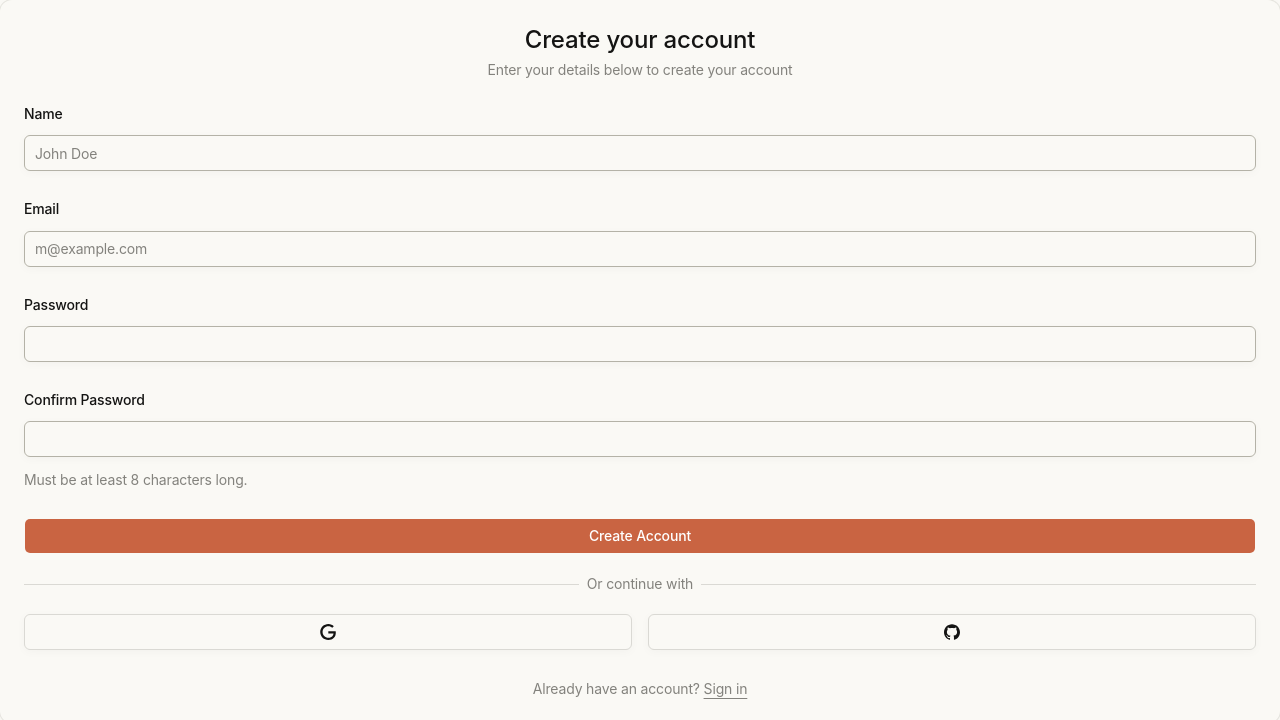
Scenario: SignupForm › form submission › should show error when passwords do not match
Type "Test User" into the field labelled "Name" at x=640, y=153, box [24,135,1256,171]
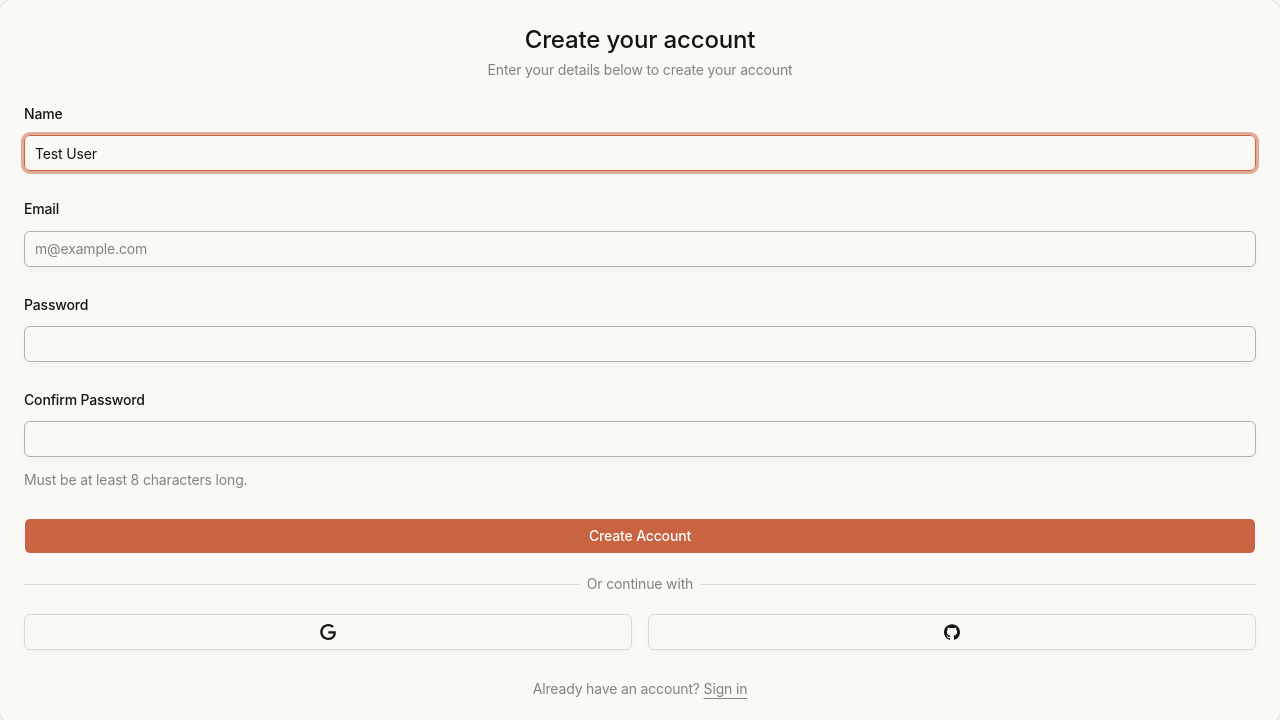
Type "test@example.com" into the field labelled "Email" at x=640, y=248, box [24,230,1256,266]
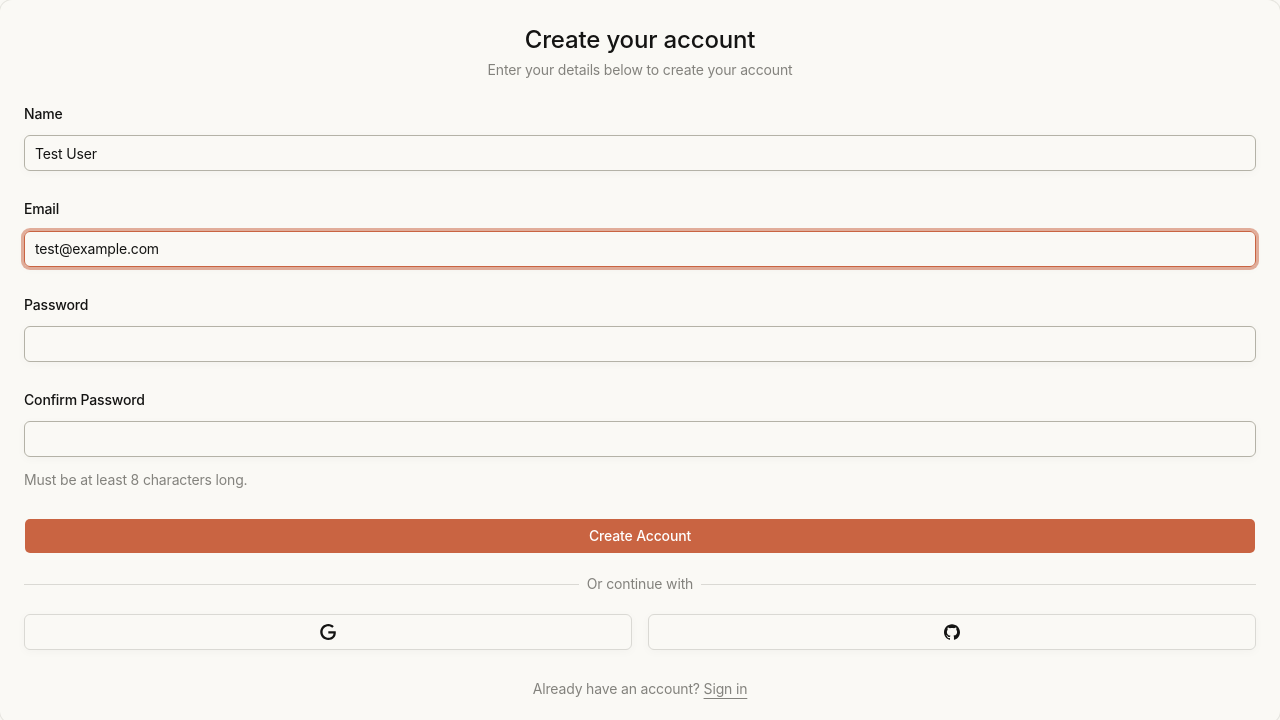
Type "password123" into the password field labelled "Password" at x=640, y=344, box [24,326,1256,362]
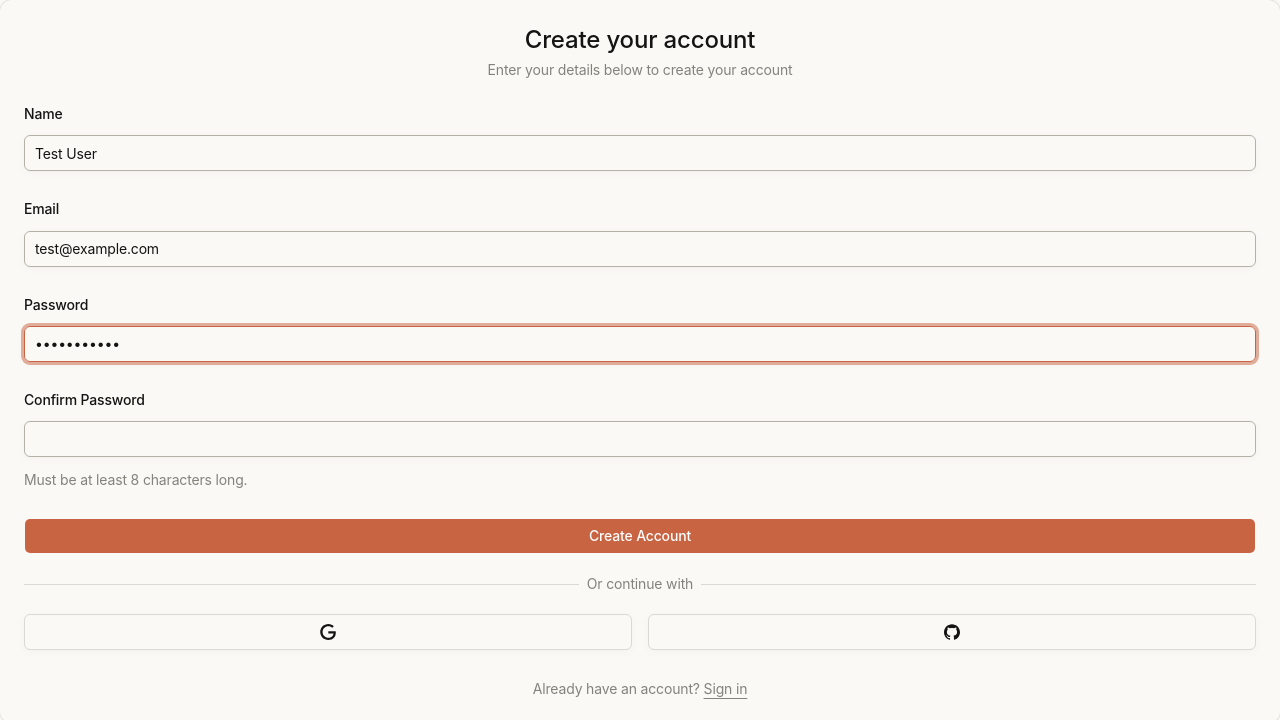
Type "different" into the password field labelled "Confirm Password" at x=640, y=439, box [24,421,1256,457]
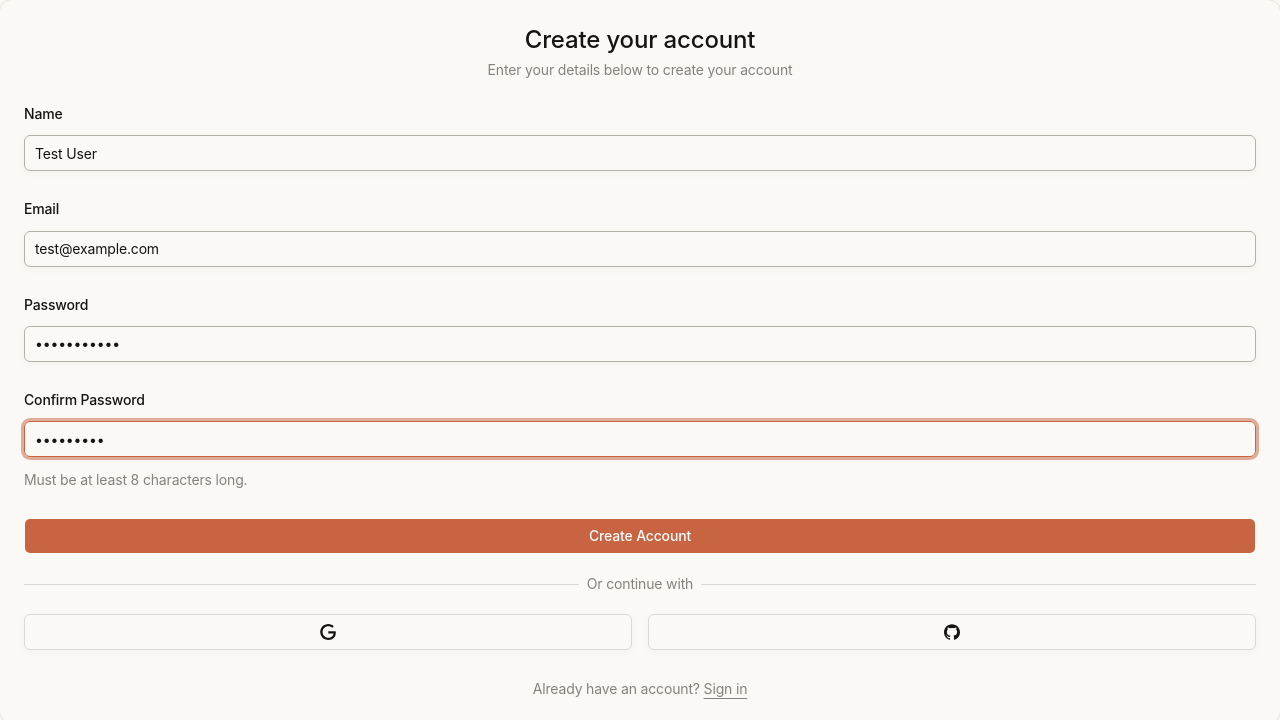
Click the button "Create Account" at x=640, y=536, box [24,518,1256,554]
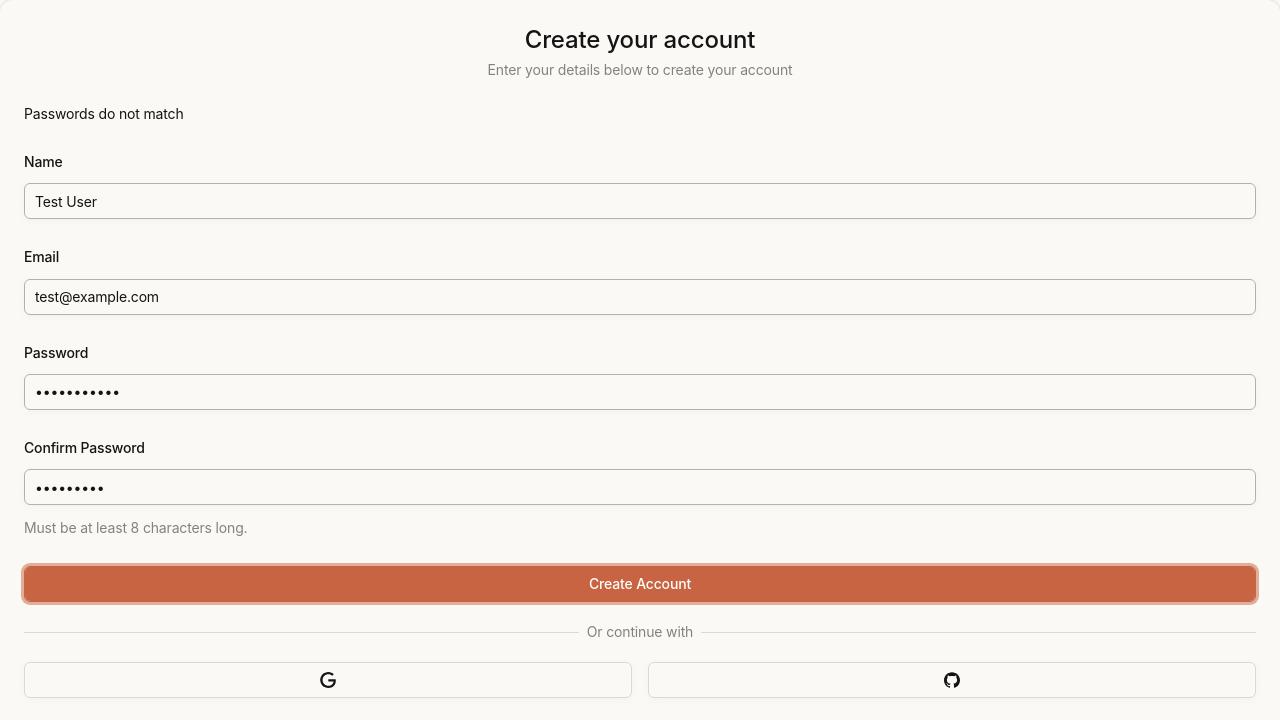
expect the message reads "Passwords do not match": met, box [24,105,184,122]
